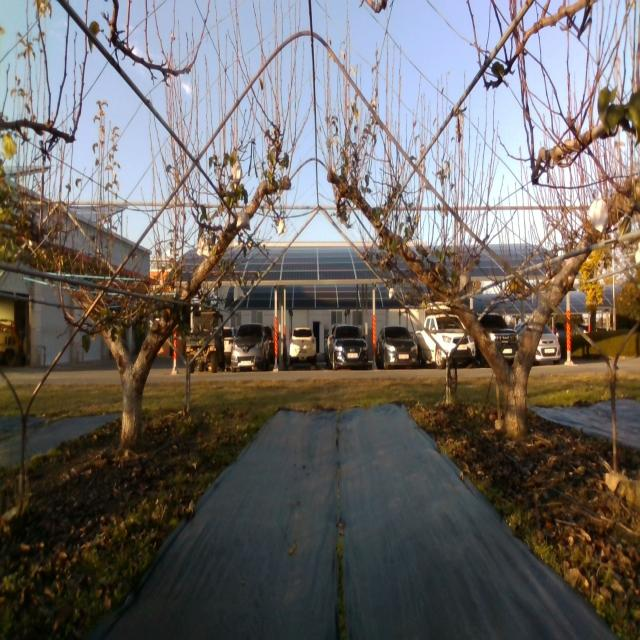pearbags: (589, 198, 608, 232), (236, 210, 251, 231), (197, 232, 210, 256), (231, 160, 243, 184), (459, 272, 472, 294)
